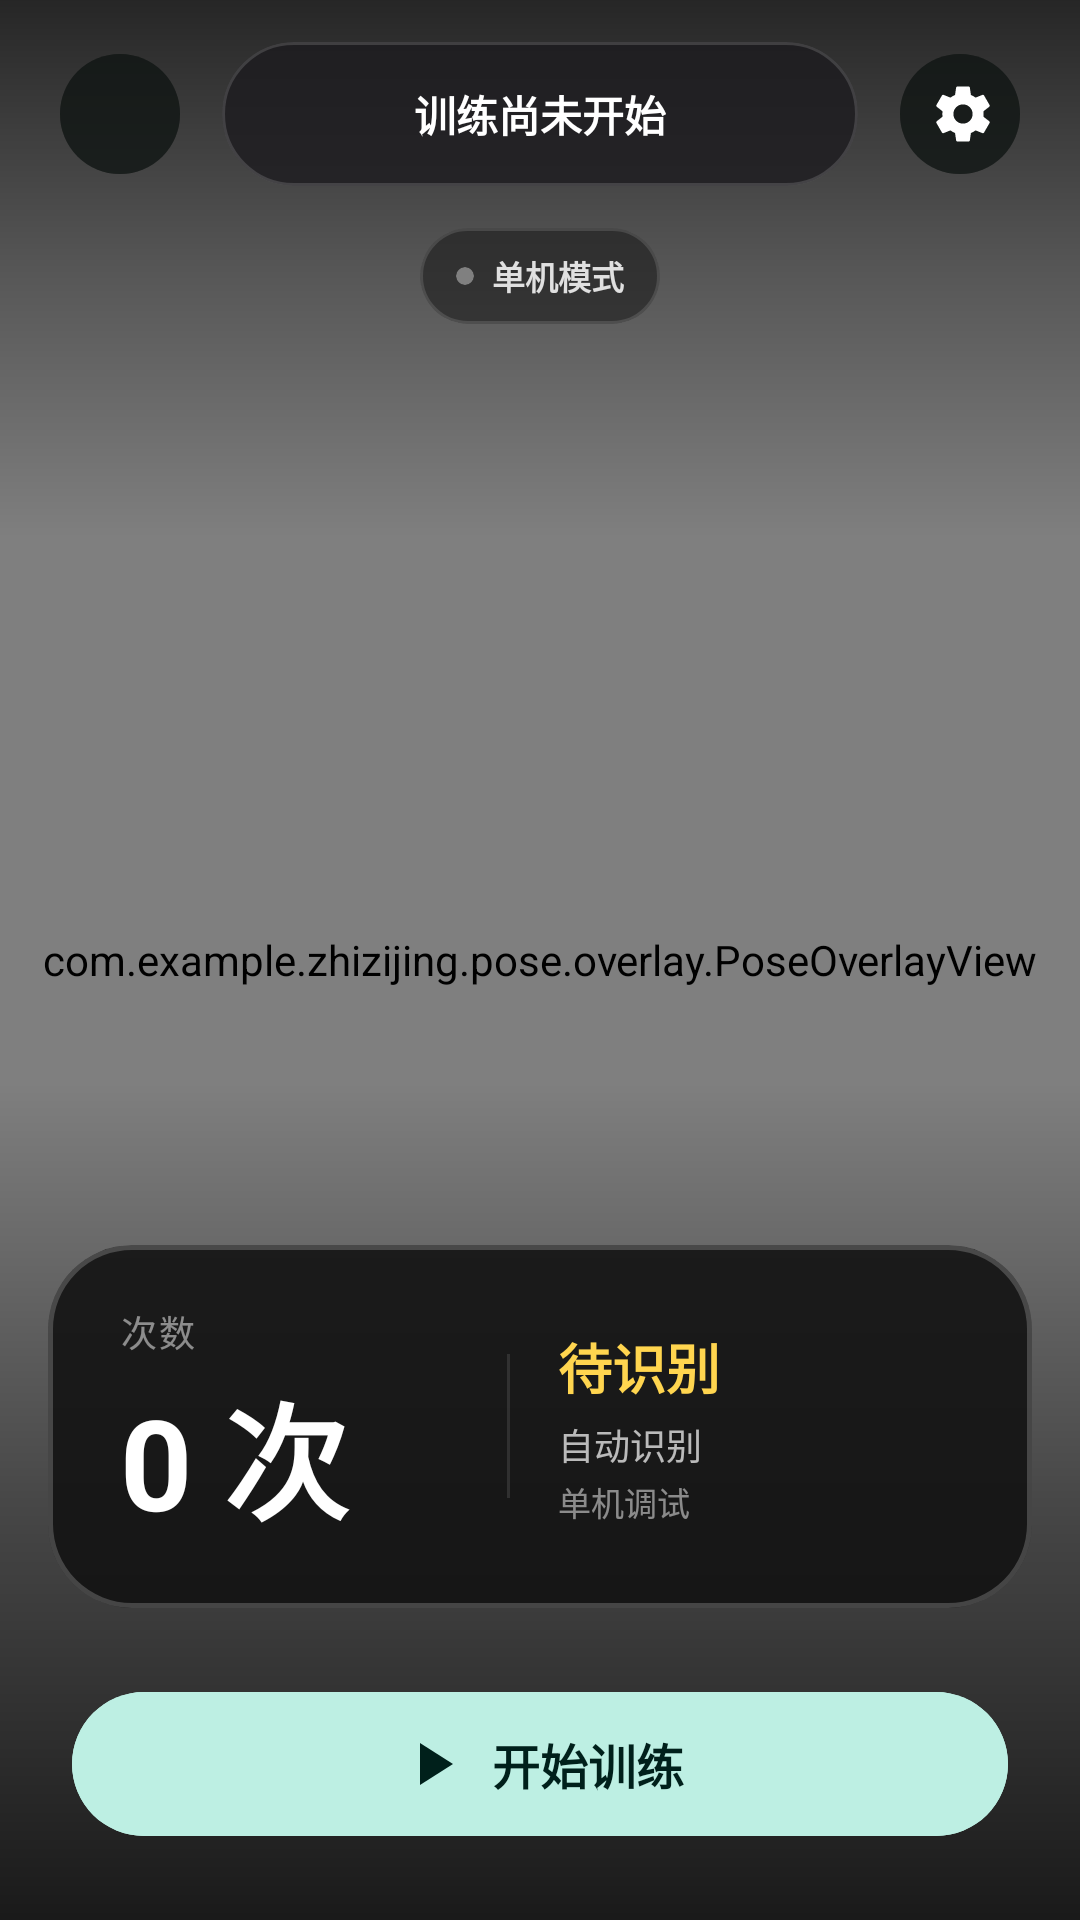

Icon click points for this 1080*1920 phone screenshot, format [x,y]:
训练设置: [960,114]
